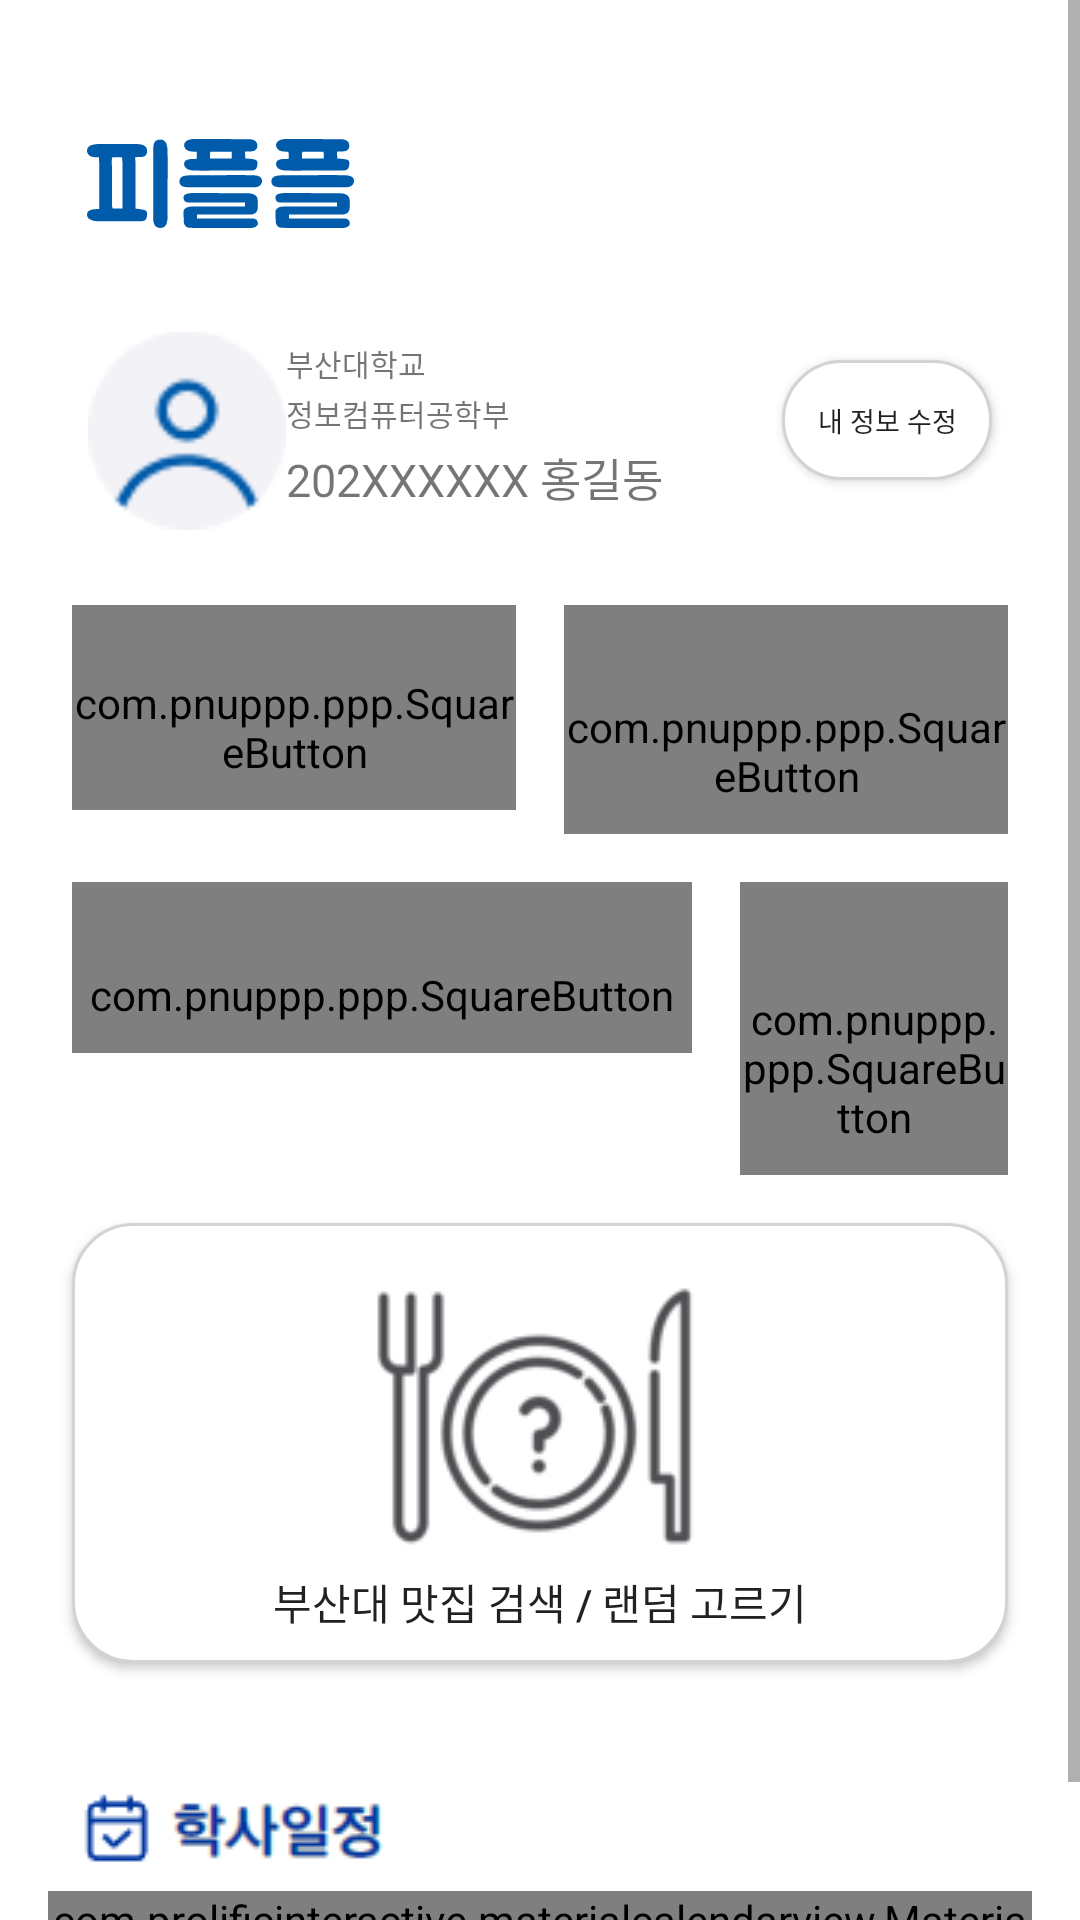

Screen size 1080 x 1920. Icon name, then its center in pixels as [x,y]:
profile: [187,431]
